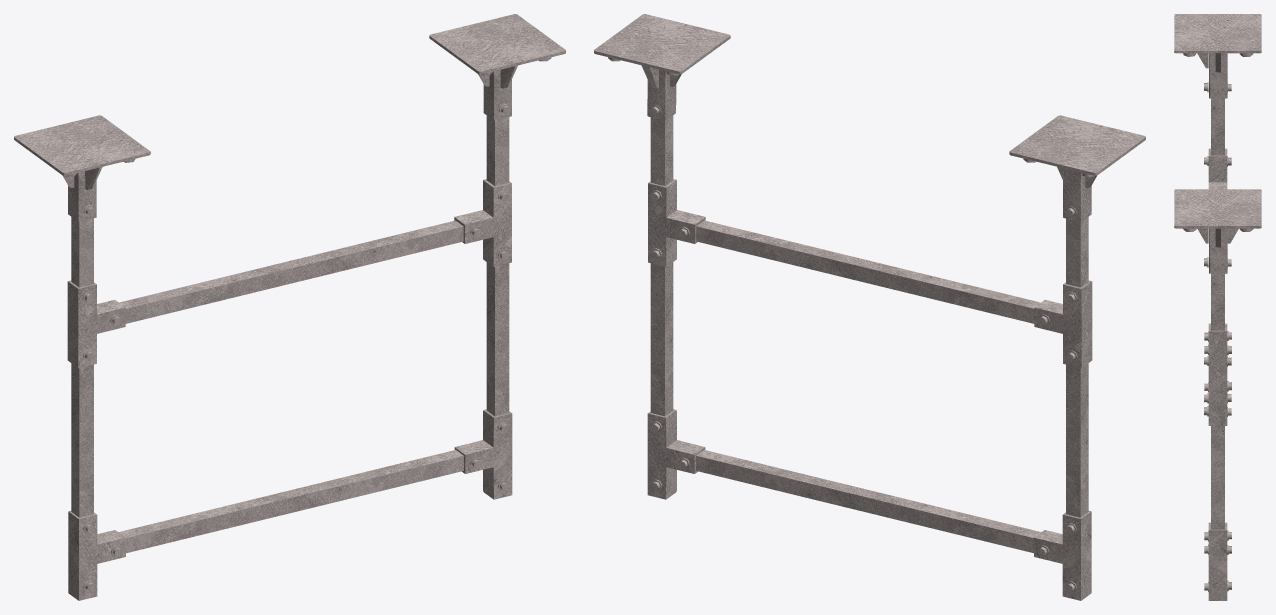
File: SM_Square_Ducting_01n.glb
The picture shows the model from 3 angles, left to right: view 1: azimuth 30°, elevation 25°; view 2: azimuth 150°, elevation 25°; view 3: azimuth 270°, elevation 25°; orthographic projection. The views are drawn at different scales.
Parts seen in each view (by area): view 1: SM_Square_Ducting_01n; view 2: SM_Square_Ducting_01n; view 3: SM_Square_Ducting_01n.
Boxes of the visible parts, left/top/right/bottom form: SM_Square_Ducting_01n: left=14, top=14, right=565, bottom=600; SM_Square_Ducting_01n: left=594, top=14, right=1145, bottom=600; SM_Square_Ducting_01n: left=1174, top=14, right=1261, bottom=600.
Bounding box in the file's own units: 1.34 × 1.15 × 0.2335.
1 material, 1 textured.
